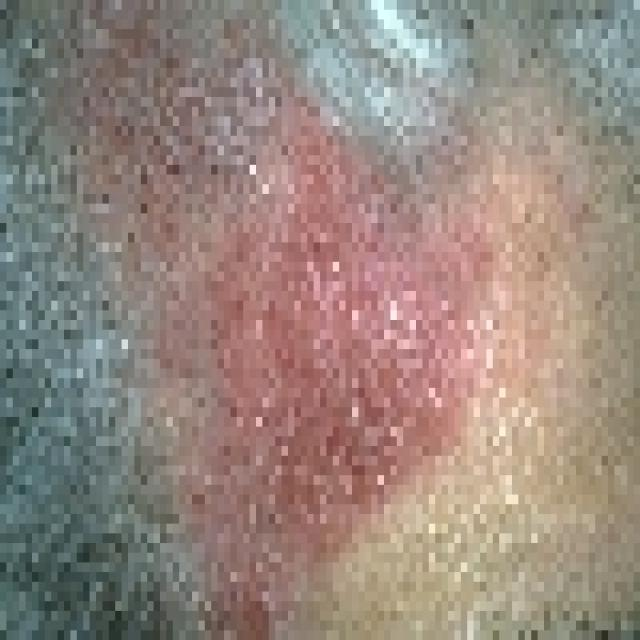lupus: (84, 61, 523, 636)
